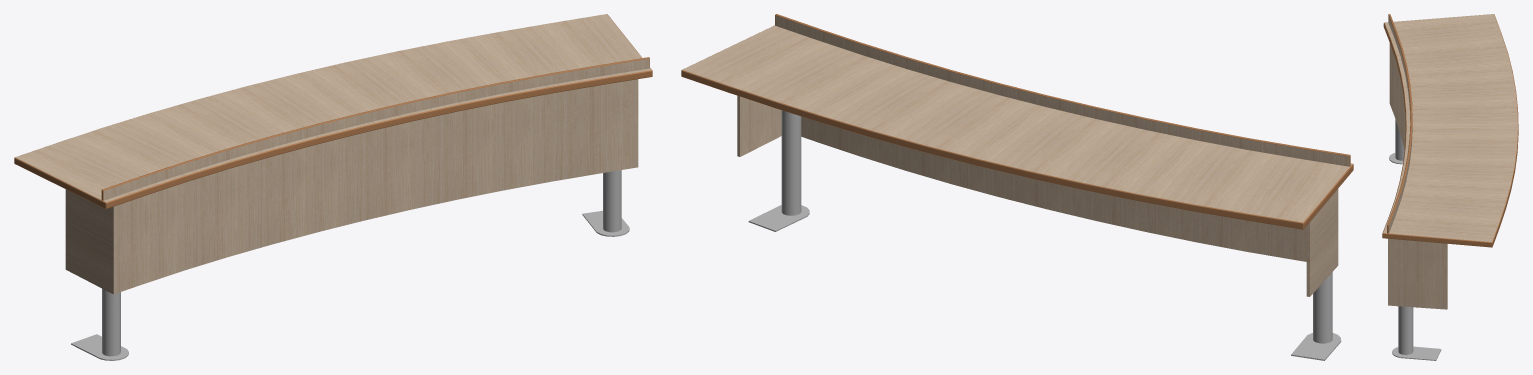
The model's file is SideTableC.fbx.
The picture shows the model from 3 angles, left to right: view 1: azimuth 30°, elevation 25°; view 2: azimuth 150°, elevation 25°; view 3: azimuth 270°, elevation 25°; orthographic projection. The views are drawn at different scales.
Visible parts, largest first — view 1: SideTableC; view 2: SideTableC; view 3: SideTableC.
Part boxes in pixels (left/top/right/bottom): SideTableC: left=14, top=14, right=652, bottom=360; SideTableC: left=681, top=14, right=1353, bottom=360; SideTableC: left=1382, top=14, right=1518, bottom=360.
Size of the model in its own units: 304 by 85.44 by 76.6.
Materials: 3 (1 with a texture image).
